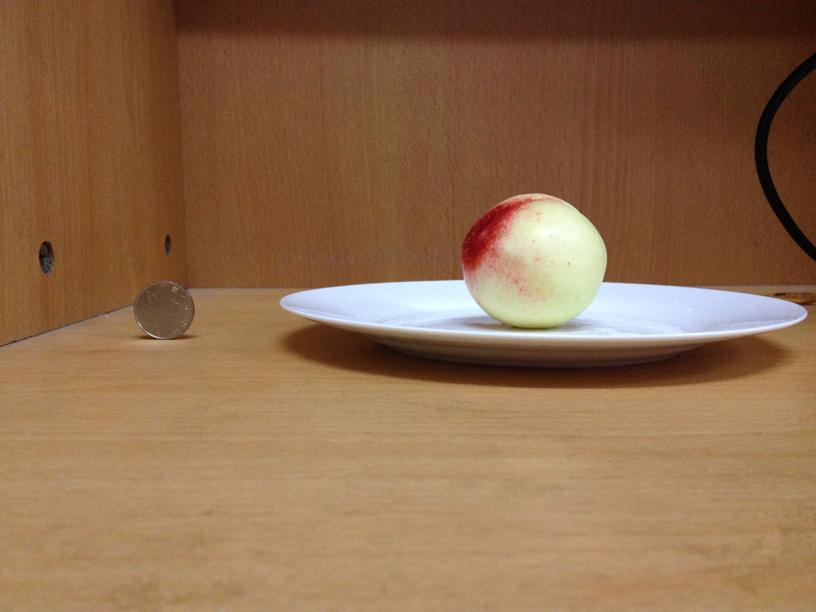coin: (135, 279, 193, 339)
peach: (458, 191, 608, 327)
